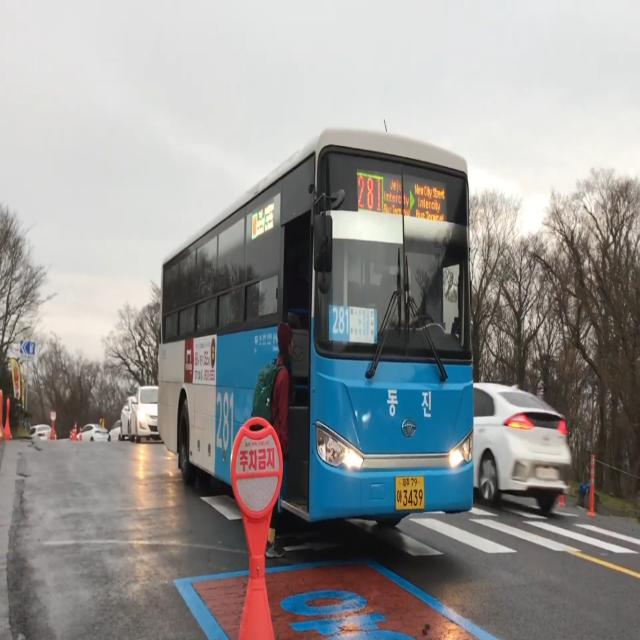bus-number: (357, 174, 382, 214)
